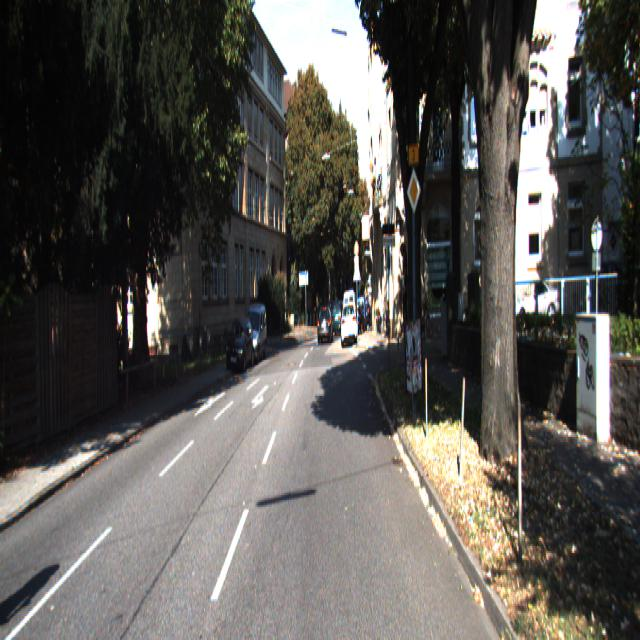Car: (506, 276, 556, 330), (224, 316, 255, 375), (241, 303, 268, 368), (341, 301, 357, 348), (317, 305, 334, 344)
